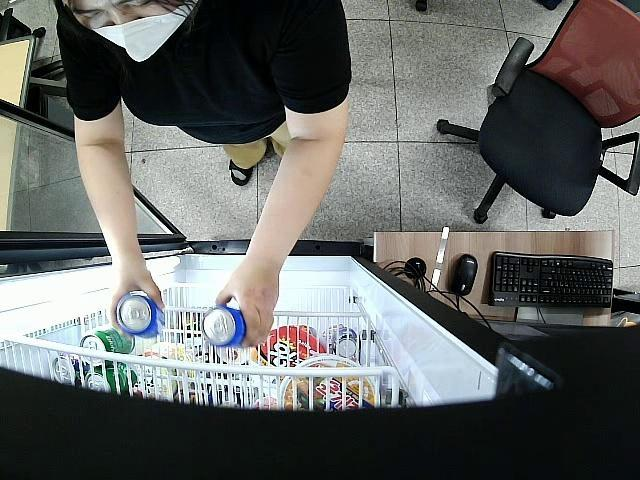13_pocariSweat: (116, 295, 164, 336), (202, 306, 244, 347)
